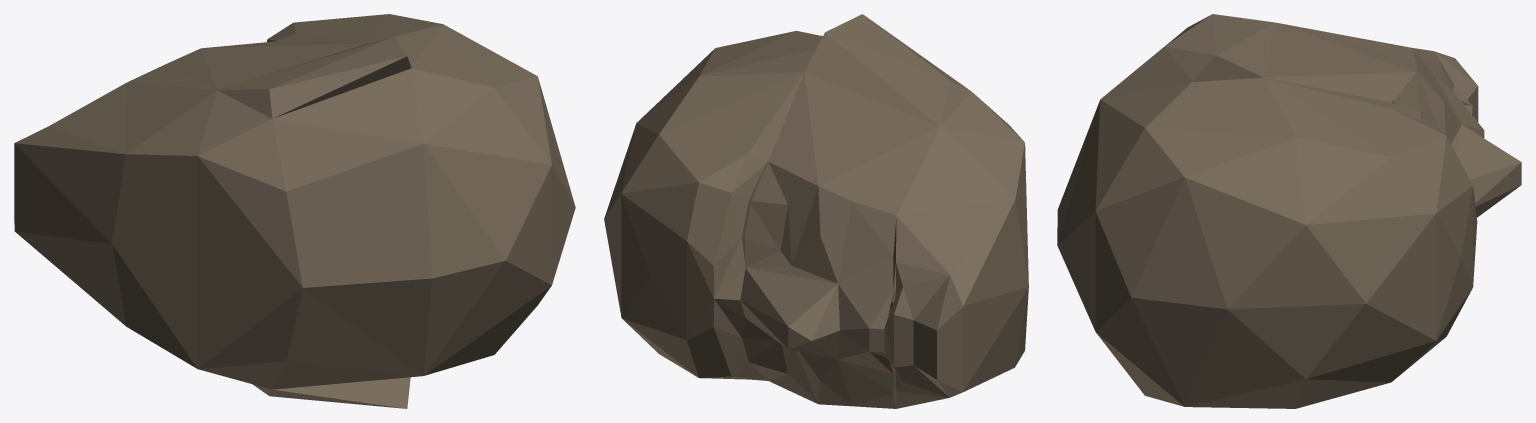
Rendered from HUM_HEAD_BALD.OBJ.
The picture shows the model from 3 angles, left to right: view 1: azimuth 30°, elevation 25°; view 2: azimuth 150°, elevation 25°; view 3: azimuth 270°, elevation 25°; orthographic projection. The views are drawn at different scales.
Parts seen in each view (by area): view 1: HUM_HEAD_BALD; view 2: HUM_HEAD_BALD; view 3: HUM_HEAD_BALD.
Part boxes in pixels (bbox=[...]): HUM_HEAD_BALD: bbox=[14, 14, 575, 408]; HUM_HEAD_BALD: bbox=[604, 14, 1028, 408]; HUM_HEAD_BALD: bbox=[1057, 14, 1521, 408].
Bounding box in the file's own units: 0.2478 × 0.1971 × 0.2346.
